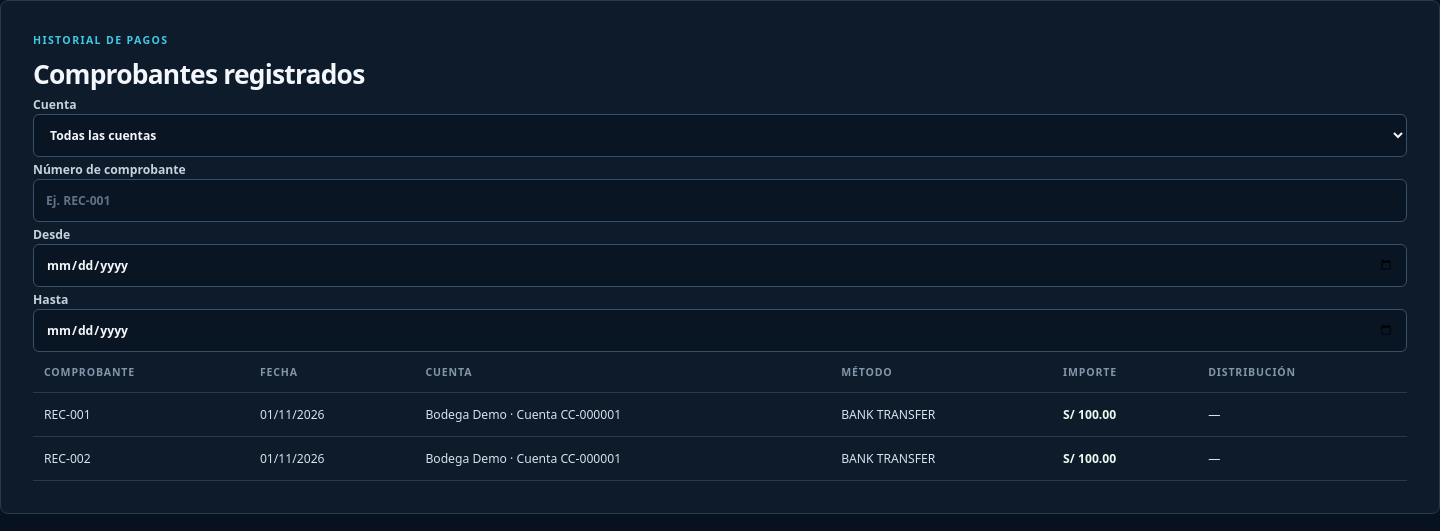
Test: PaymentHistory › filtra por numero de comprobante
In the search field labelled "Número de comprobante": (720, 200) [33,179,1407,222], type "REC-002"
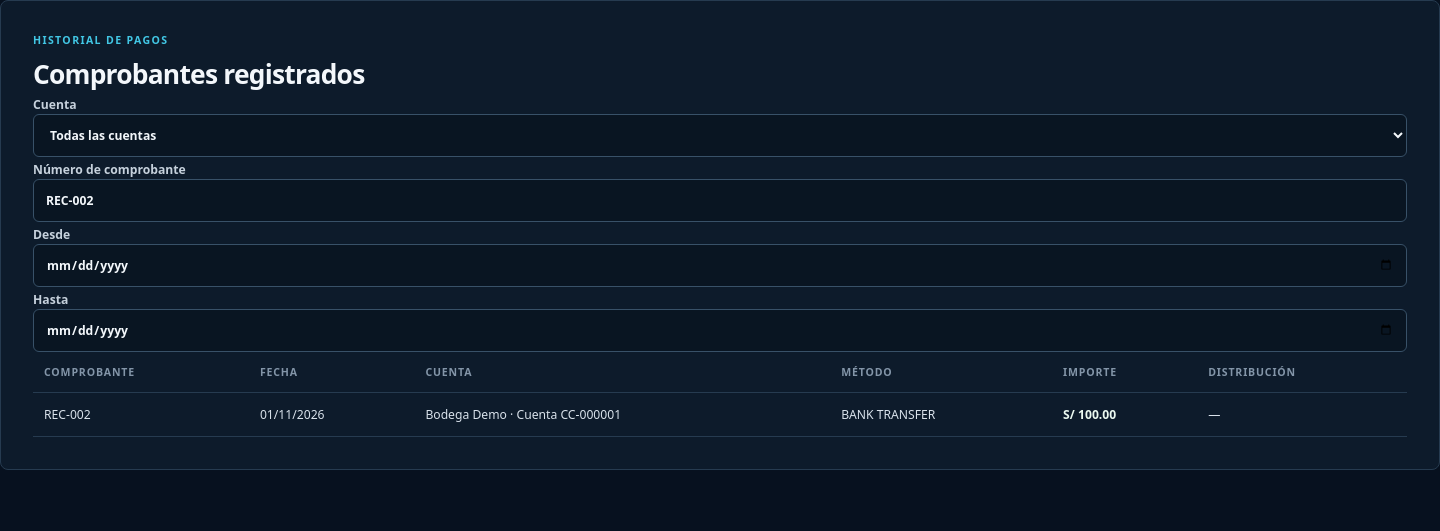
Check: the text "REC-002" is shown, box [33,392,249,436]
Check: the text "REC-001" is gone
